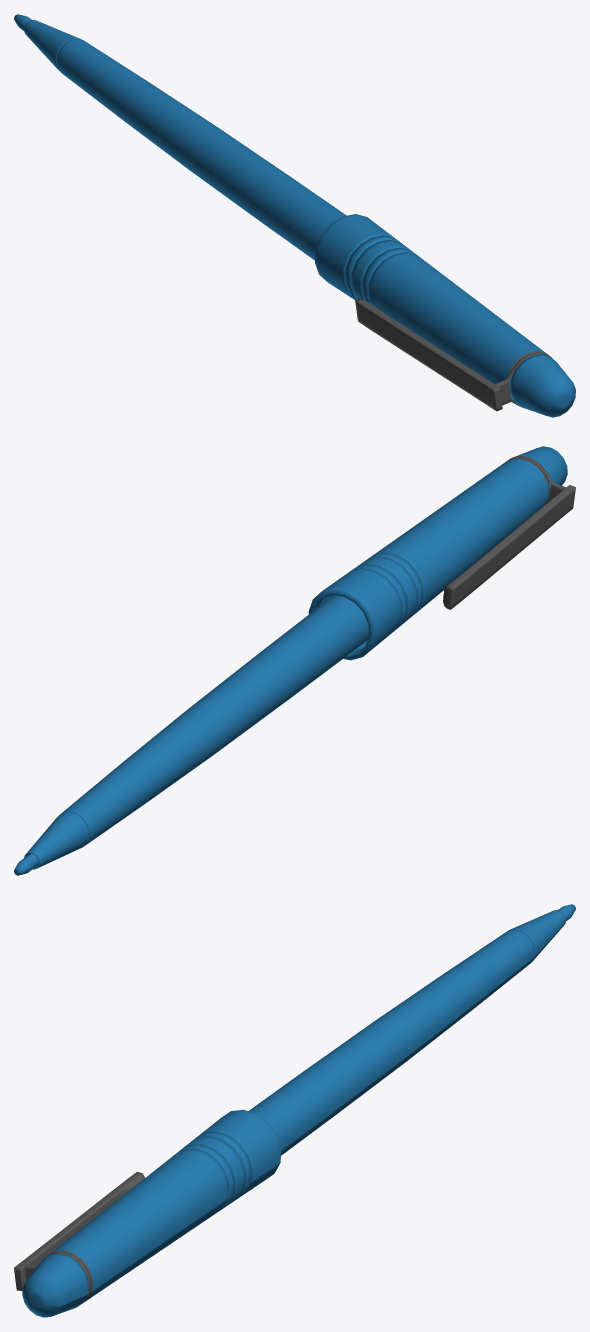
Rendered from ballpen.FBX.
3 views of the same model, one above another, from view 1: azimuth 30°, elevation 25°; view 2: azimuth 150°, elevation 25°; view 3: azimuth 330°, elevation 25° (orthographic).
Visible parts, largest first — view 1: Àâòîðó÷êà; view 2: Àâòîðó÷êà; view 3: Àâòîðó÷êà.
Boxes of the visible parts, x1,y1,x2,y2 form: Àâòîðó÷êà: (14, 14, 575, 417); Àâòîðó÷êà: (14, 446, 575, 875); Àâòîðó÷êà: (14, 904, 575, 1317).
Bounding box in the file's own units: 0.0768 × 0.0603 × 0.8541.
